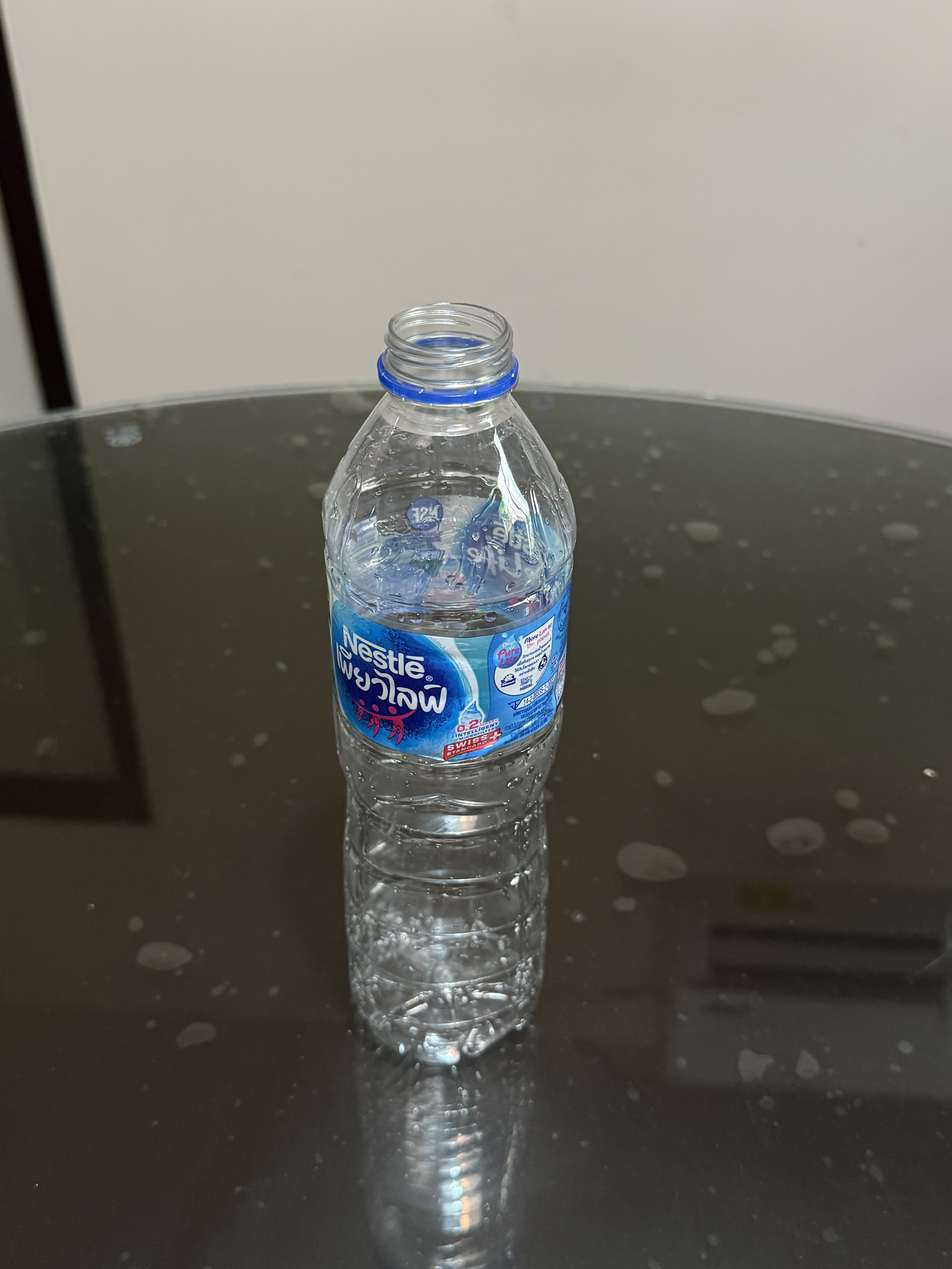no_cap: (372, 298, 523, 409)
